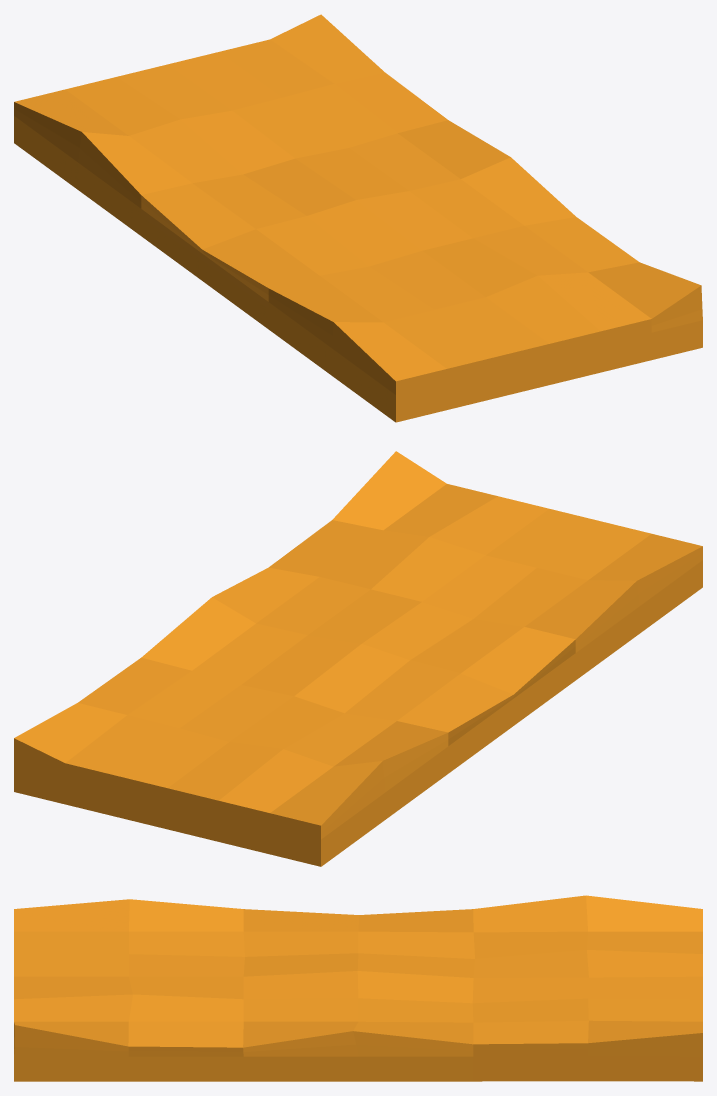
File: Dirt_Road.fbx
3 views of the same model, one above another, from view 1: azimuth 30°, elevation 25°; view 2: azimuth 150°, elevation 25°; view 3: azimuth 270°, elevation 25° (orthographic). The views are drawn at different scales.
Visible parts, largest first — view 1: Road; view 2: Road; view 3: Road.
Part boxes in pixels (x1,y1,x2,y2): Road: [14, 14, 702, 422]; Road: [14, 451, 702, 866]; Road: [14, 895, 702, 1081].
Bounding box in the file's own units: 3028 × 599 × 6466.
